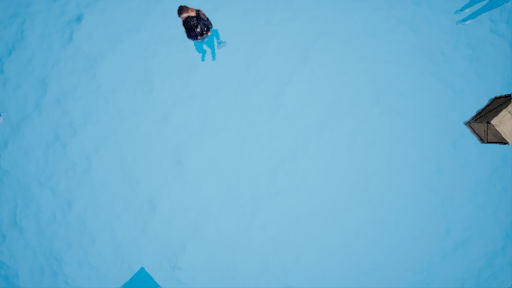person: (168, 5, 235, 73)
